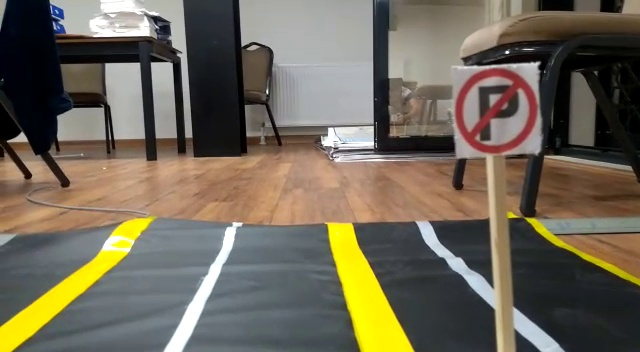park_yapilmaz: (451, 66, 541, 153)
